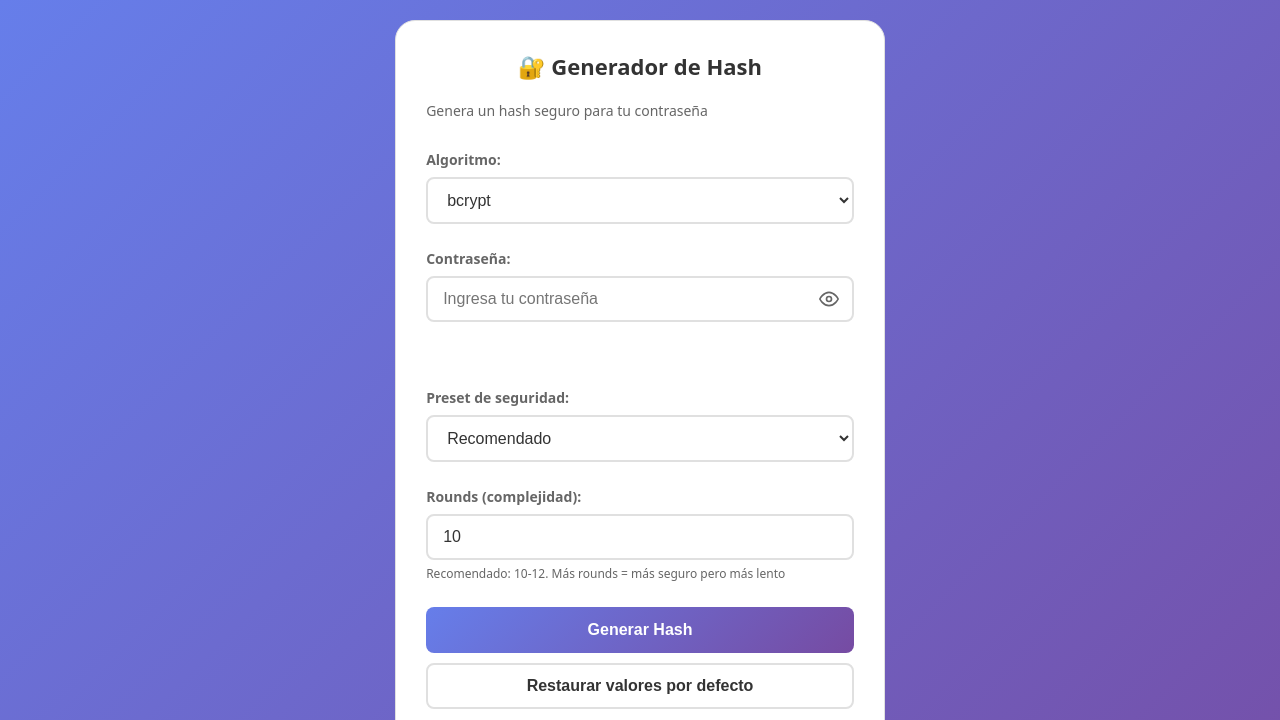
HashGenerator › permite usar presets y restaurar valores por defecto
Select "Alto" in the dropdown labelled "Preset de seguridad:" at (640, 438), box top-left (426, 415), bottom-right (854, 462)
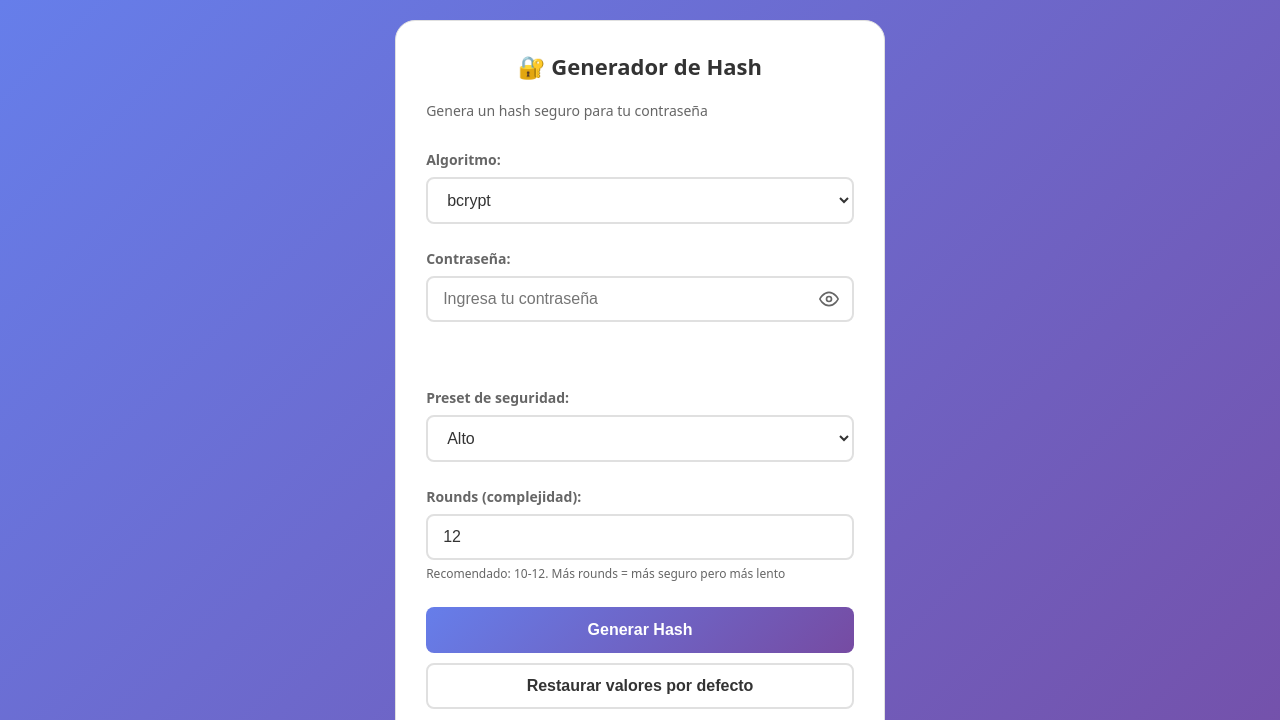
expect the number field labelled "Rounds (complejidad):" holds "12": met, box top-left (426, 514), bottom-right (854, 560)
Click the button "Restaurar valores por defecto" at (640, 686), box top-left (426, 663), bottom-right (854, 709)
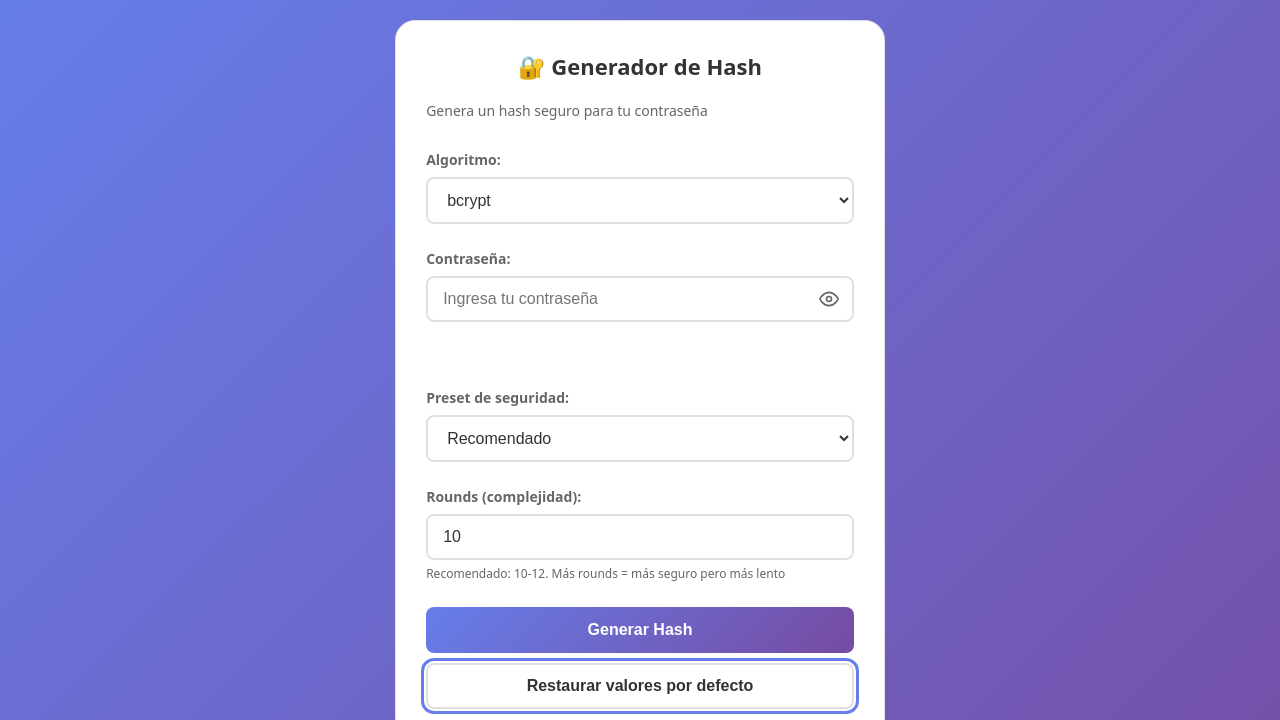
expect the number field labelled "Rounds (complejidad):" holds "10": met, box top-left (426, 514), bottom-right (854, 560)
